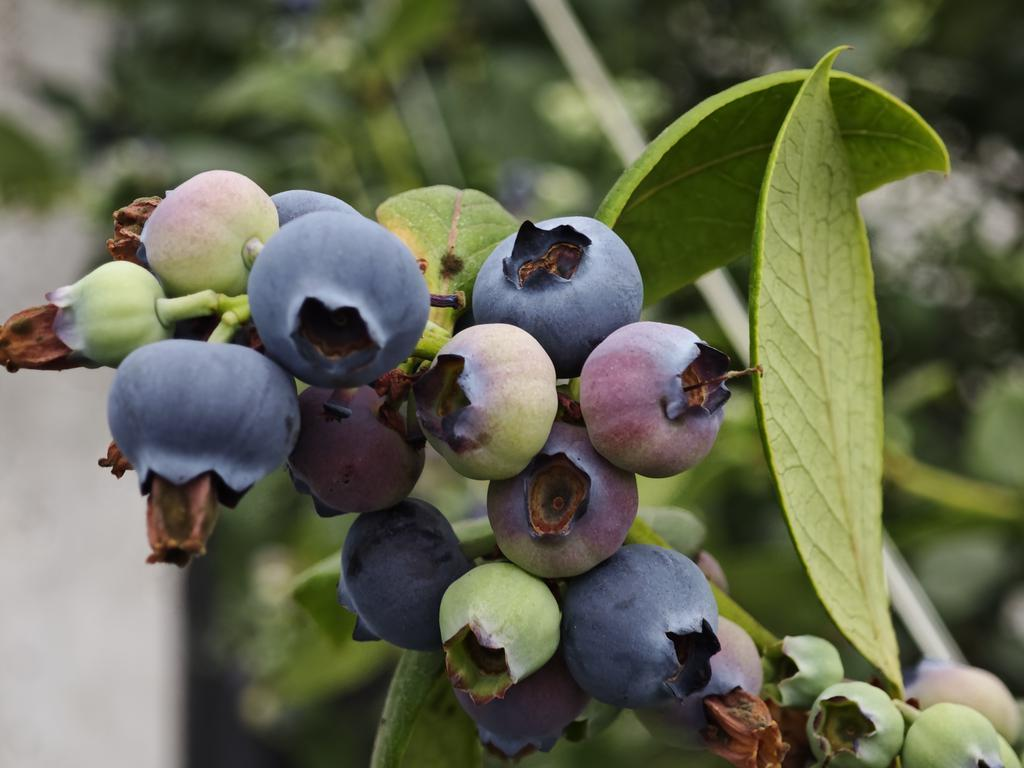RipeBlueBerry: (251, 210, 428, 386), (109, 342, 303, 502)
Semi-RipeBlueBerry: (582, 321, 730, 470), (419, 323, 557, 481)
UnripeBlueBerry: (443, 566, 558, 684)
